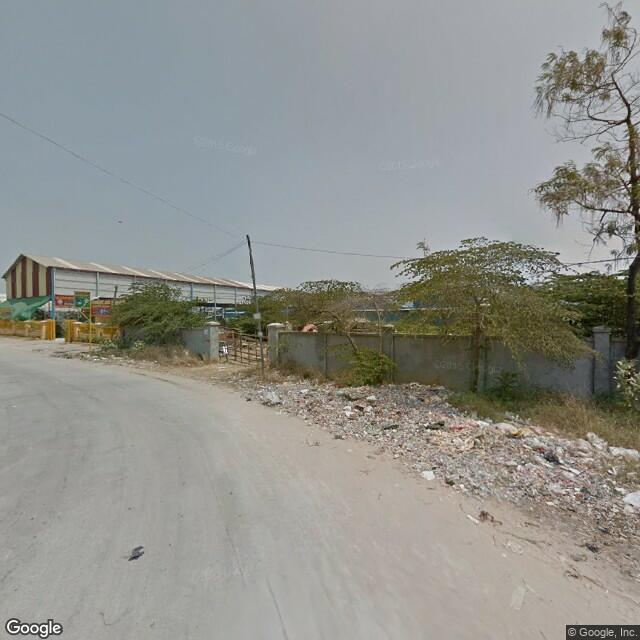litter: (477, 416, 534, 438), (340, 395, 378, 420), (540, 446, 562, 469), (579, 541, 606, 556), (259, 391, 284, 407), (475, 505, 495, 524), (423, 469, 438, 484)
